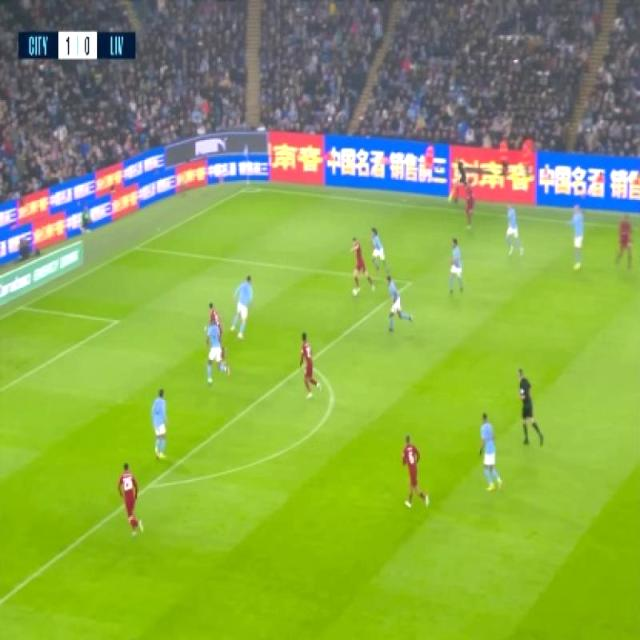bigarea_top_inner: (399, 270, 421, 296)
bigarea_top_outter: (128, 238, 152, 256)
bottom_arc_area_intersection: (141, 472, 166, 498)
corner: (241, 181, 256, 191)
smallarea_top_inner: (105, 309, 127, 332)
smallarea_top_outter: (10, 296, 32, 318)
